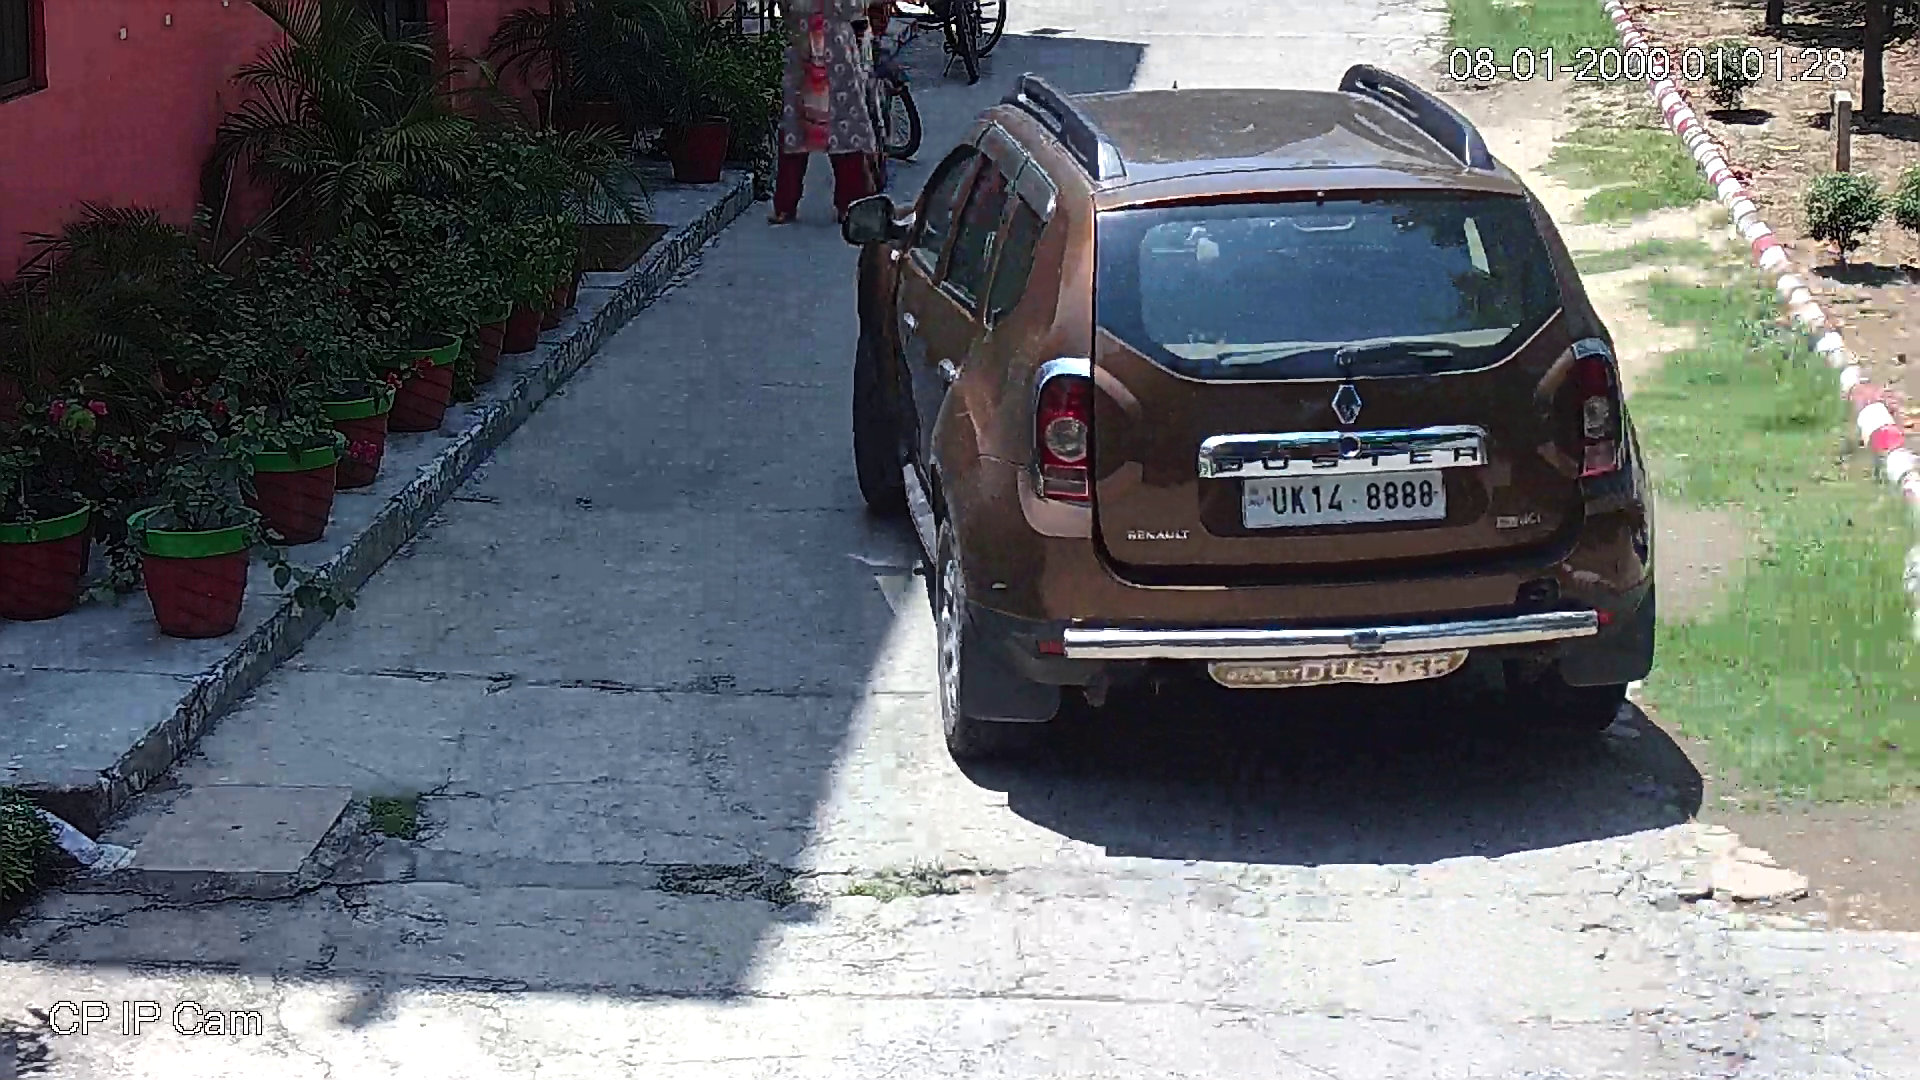plate: (1253, 476, 1445, 523)
